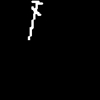double_crochet: (28, 1, 42, 39)
